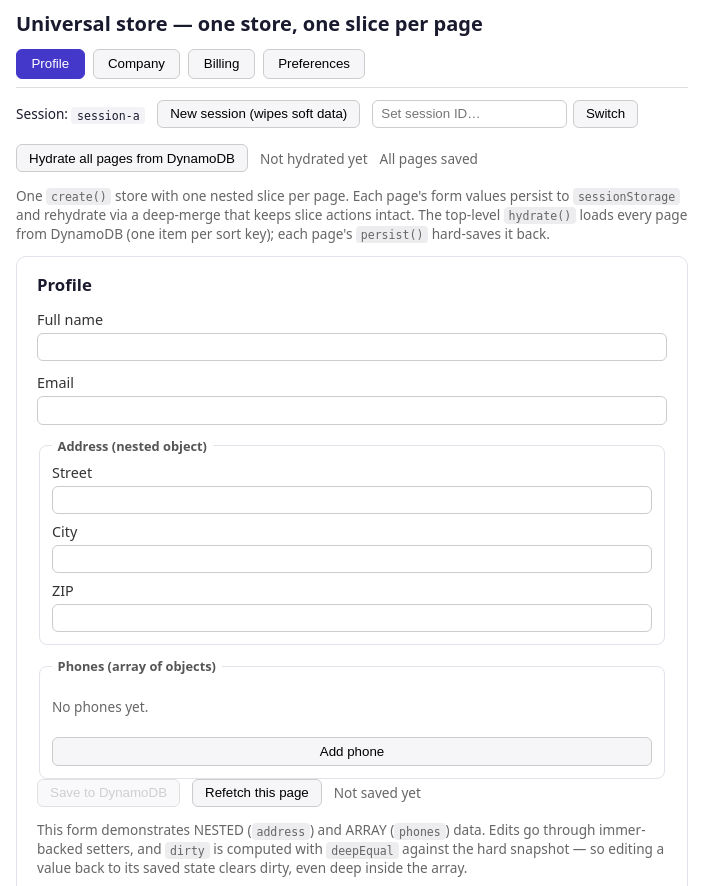
it: <App /> › Switch sets a typed session id
Type "session-b" into the field with placeholder "Set session ID…". click: (470, 114)
box: [372,100,567,128]
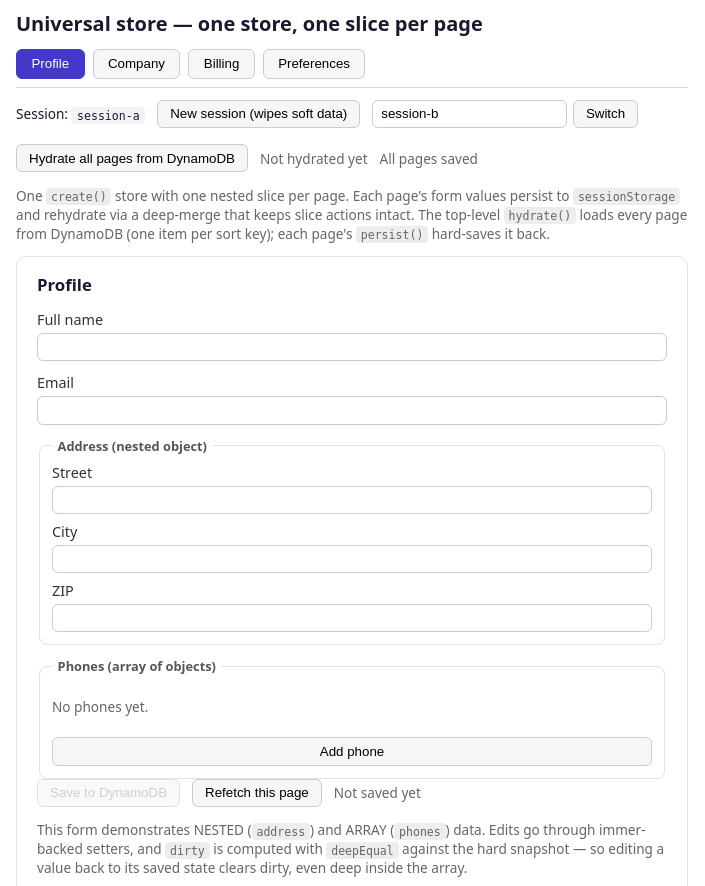
Click the button "Switch". click: (606, 114)
box: [573,100,638,128]
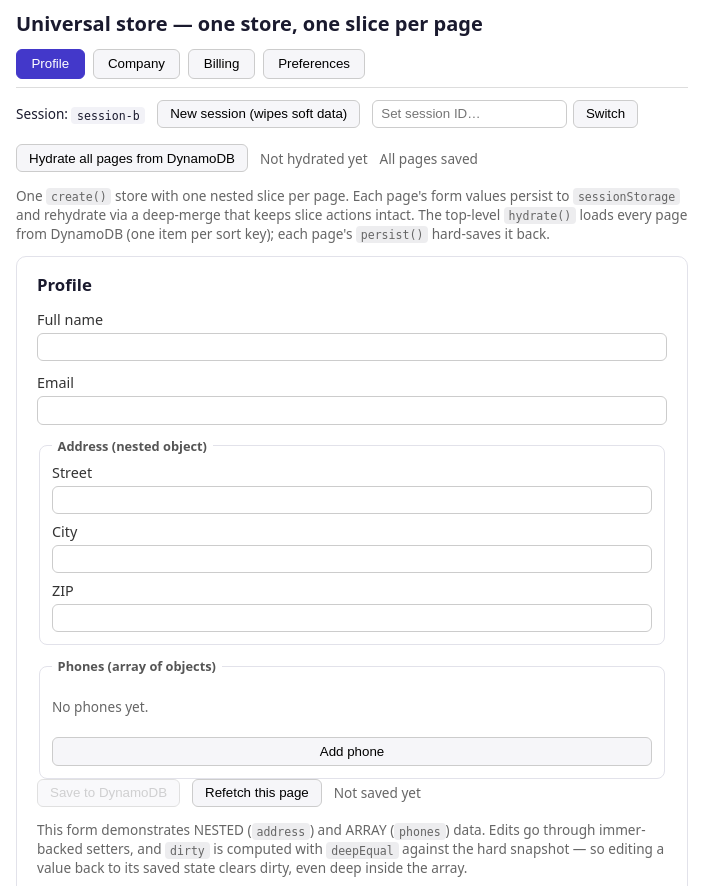
Check: the text "session-b" is shown, box [72,107,145,124]
